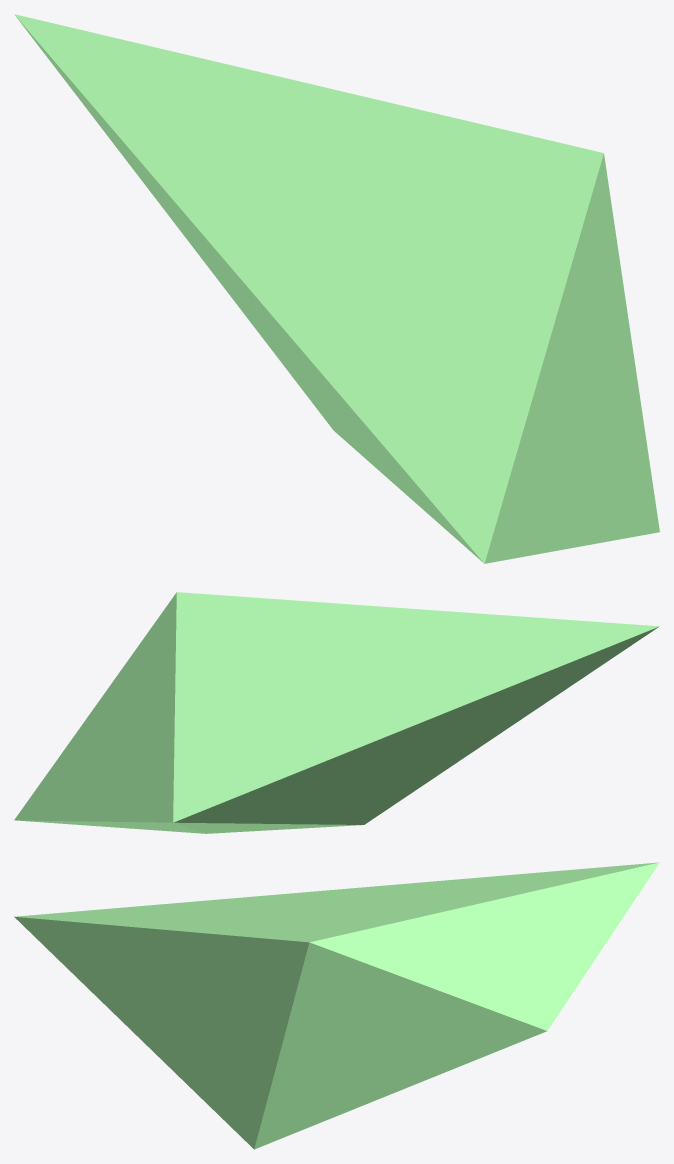
Rendered from linkhou_LR4_R560_link6_respondable_coll_2.dae.
3 views of the same model, one above another, from view 1: azimuth 30°, elevation 25°; view 2: azimuth 150°, elevation 25°; view 3: azimuth 270°, elevation 25° (orthographic). The views are drawn at different scales.
Visible parts, largest first — view 1: Node_00000209DB3AD9B0; view 2: Node_00000209DB3AD9B0; view 3: Node_00000209DB3AD9B0.
Part boxes in pixels (x1=…): Node_00000209DB3AD9B0: x1=14, y1=14, x2=659, y2=563; Node_00000209DB3AD9B0: x1=14, y1=592, x2=659, y2=833; Node_00000209DB3AD9B0: x1=14, y1=862, x2=659, y2=1149.
Bounding box in the file's own units: 0.00898 × 0.00786 × 0.0225.
